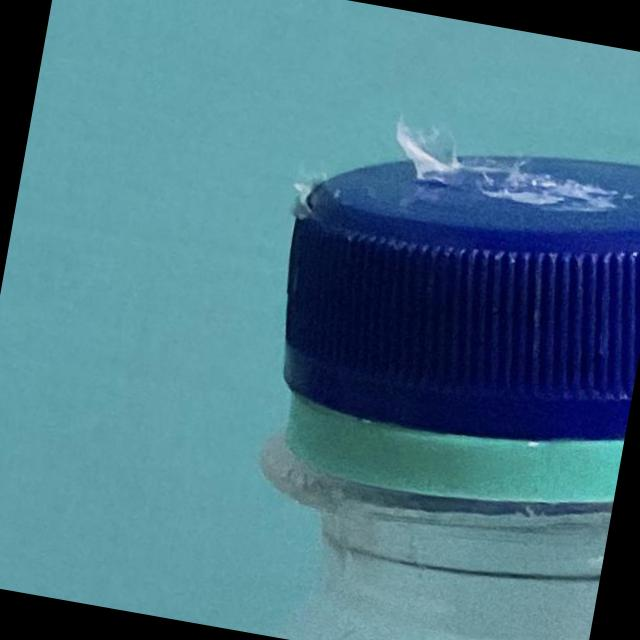Good-cap-Df0S: (236, 88, 640, 514)
